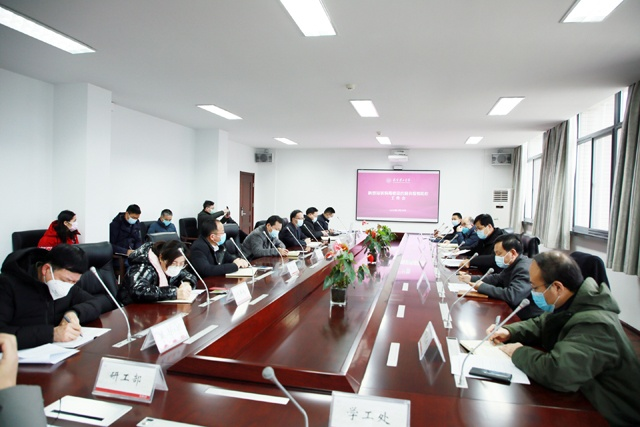correctlyWear: (40, 258, 82, 300), (529, 268, 564, 312), (158, 252, 186, 277), (493, 246, 516, 268), (205, 226, 227, 244), (473, 220, 491, 239), (264, 220, 283, 237), (290, 211, 303, 228), (62, 216, 77, 230), (125, 209, 139, 224), (159, 213, 172, 226), (306, 210, 319, 221), (204, 202, 214, 213), (326, 208, 335, 219), (450, 216, 461, 225)
